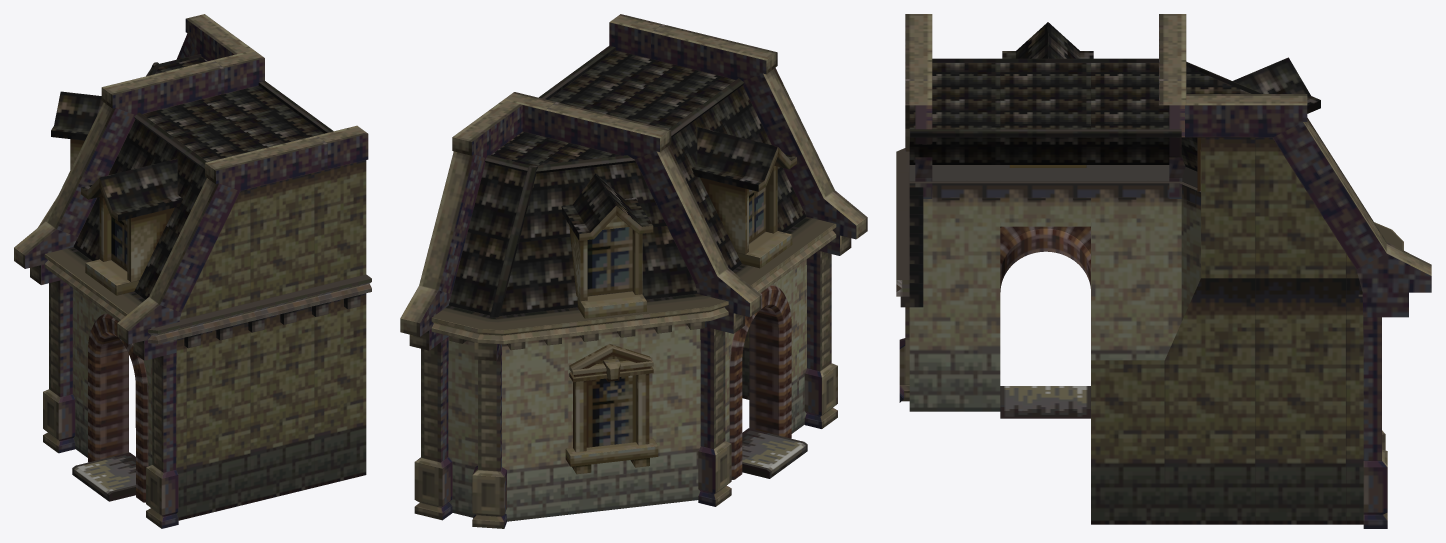
The model's file is EnvBdgMD_City_B_Outdoor_S_D.FBX.
3 views of the same model, side by side, from view 1: azimuth 30°, elevation 25°; view 2: azimuth 150°, elevation 25°; view 3: azimuth 270°, elevation 25° (orthographic). The views are drawn at different scales.
Parts seen in each view (by area): view 1: EnvBdgMD_City_B_Outdoor_S_D; view 2: EnvBdgMD_City_B_Outdoor_S_D; view 3: EnvBdgMD_City_B_Outdoor_S_D.
Boxes of the visible parts, x1,y1,x2,y2 form: EnvBdgMD_City_B_Outdoor_S_D: [14, 14, 371, 528]; EnvBdgMD_City_B_Outdoor_S_D: [400, 14, 867, 528]; EnvBdgMD_City_B_Outdoor_S_D: [896, 14, 1431, 528].
Bounding box in the file's own units: 382 × 513 × 591.
1 material, 1 textured.
